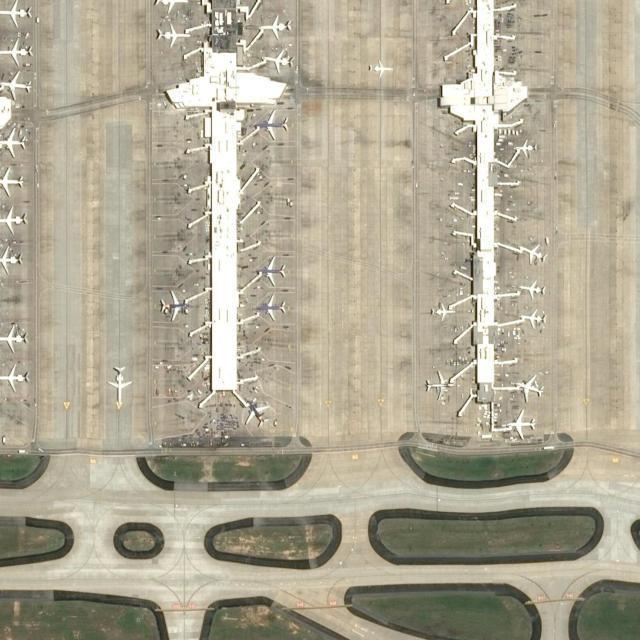Aircraft: (158, 287, 198, 323), (104, 363, 132, 406), (153, 18, 193, 46), (502, 409, 538, 439), (255, 256, 287, 289), (0, 359, 30, 394), (0, 319, 28, 356), (511, 373, 544, 404), (421, 369, 454, 400), (260, 45, 294, 75), (0, 0, 34, 30), (0, 70, 34, 100), (0, 38, 35, 67), (256, 12, 292, 39), (251, 296, 287, 322), (0, 126, 27, 160), (0, 203, 28, 235), (242, 399, 272, 428), (0, 241, 24, 277), (0, 165, 24, 198), (518, 241, 548, 264), (150, 0, 190, 15), (518, 308, 545, 330), (367, 57, 395, 78), (519, 278, 545, 298), (429, 300, 457, 318), (513, 140, 535, 158)
